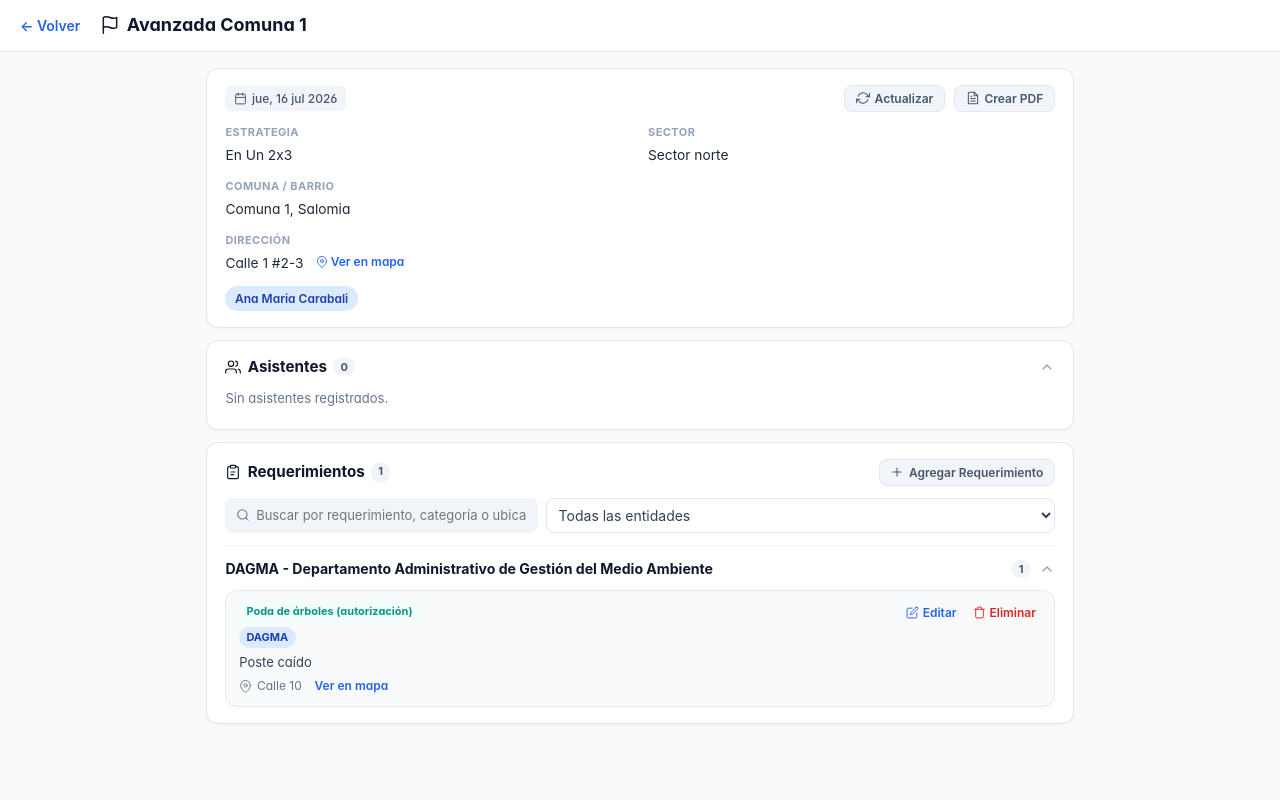
it: DetalleAvanzada › edit requerimiento › closes the modal on success without touching the create path
The width and height of the screenshot is (1280, 800).
Click the button with aria-label "editar requerimiento": x=931, y=612 [901,602,961,622]
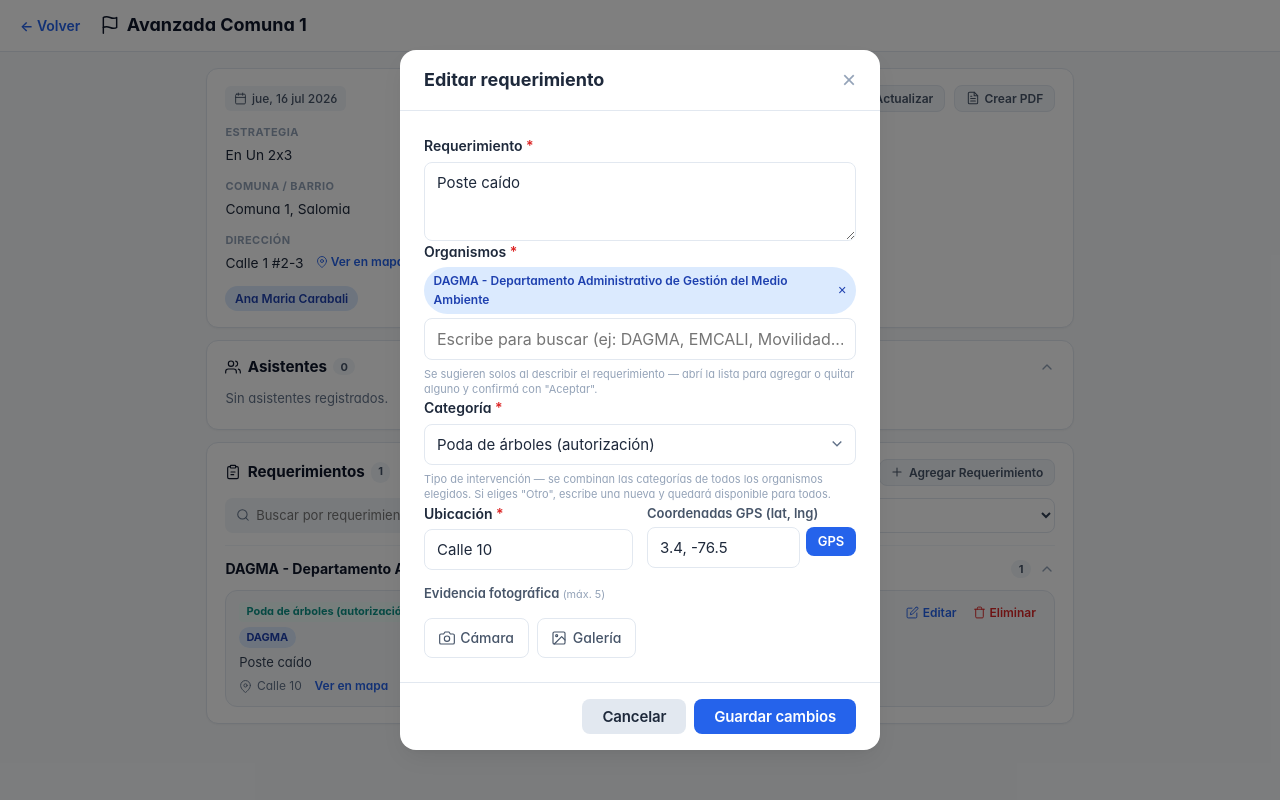
Click the button "Guardar cambios": x=775, y=717 [694,699,856,734]
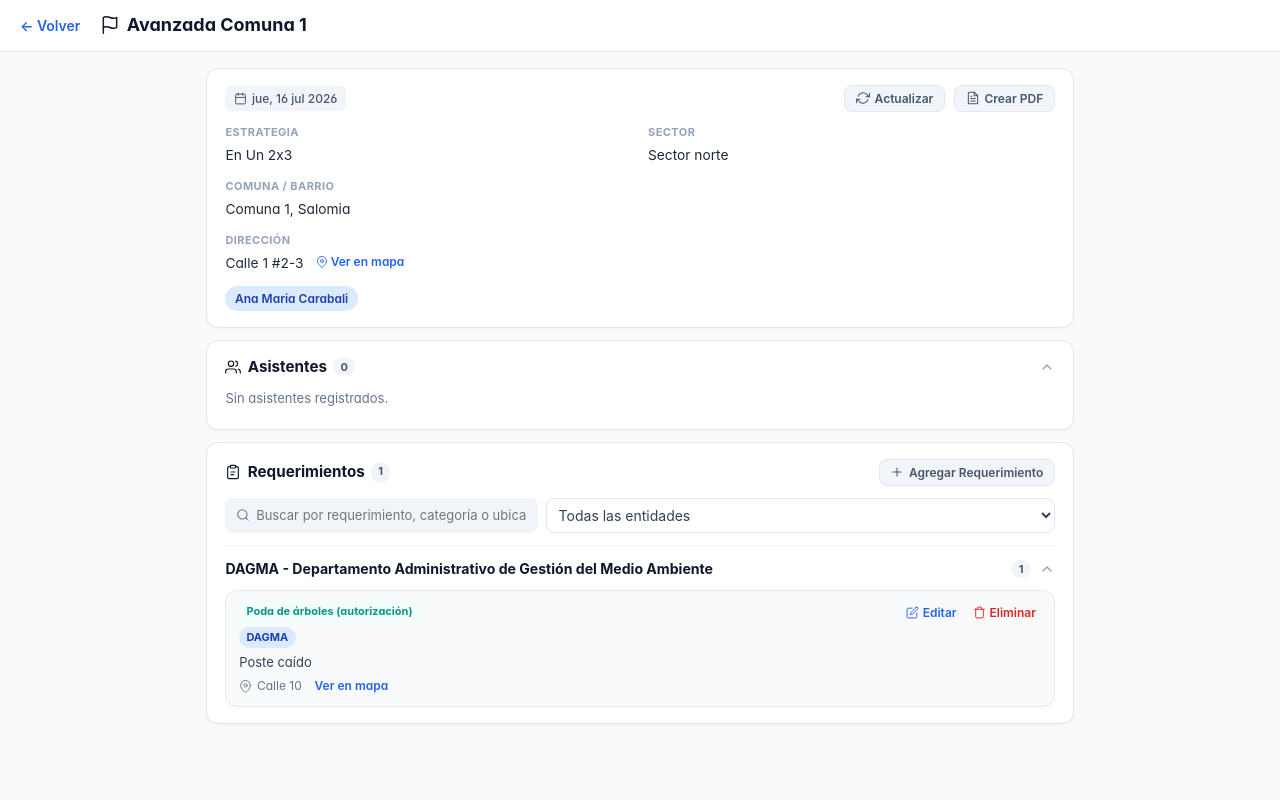
Now the heading "Editar requerimiento" is gone
